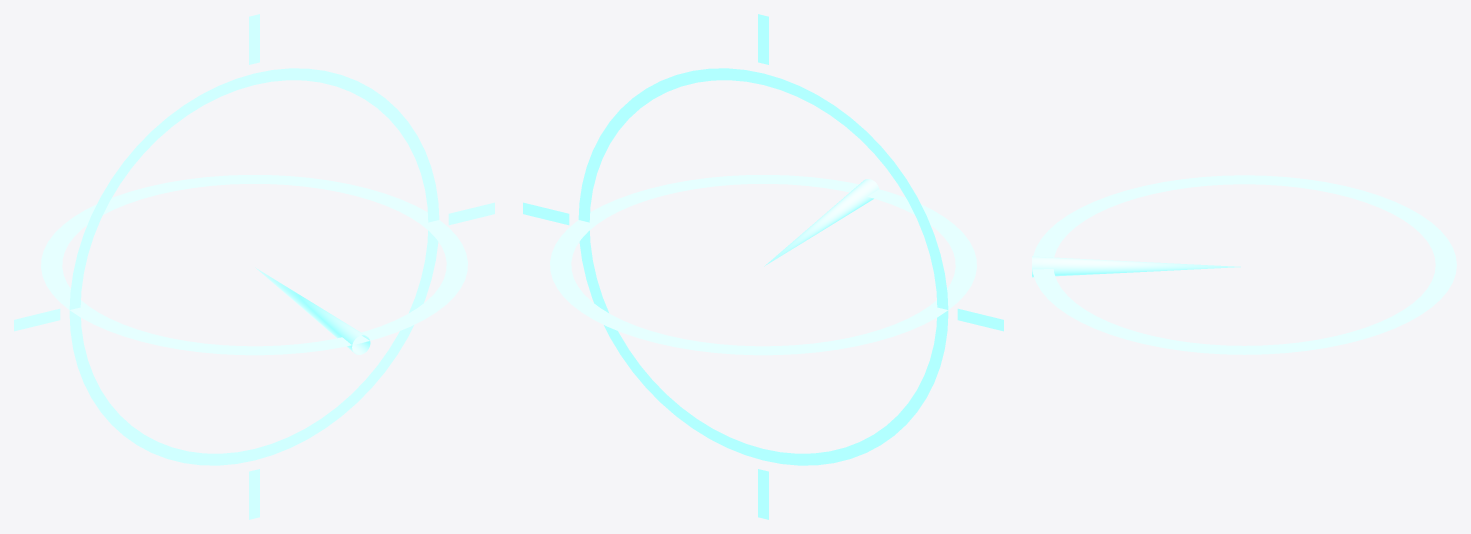
The model's file is vfx_meshes.glb.
3 views of the same model, side by side, from view 1: azimuth 30°, elevation 25°; view 2: azimuth 150°, elevation 25°; view 3: azimuth 270°, elevation 25° (orthographic).
Parts seen in each view (by area): view 1: Reticle, BeaconPulse, ScannerBeam; view 2: Reticle, BeaconPulse, ScannerBeam; view 3: BeaconPulse, ScannerBeam.
Part boxes in pixels (left/top/right/bottom): Reticle: left=14, top=14, right=494, bottom=519; BeaconPulse: left=41, top=175, right=467, bottom=355; ScannerBeam: left=255, top=267, right=370, bottom=354; Reticle: left=523, top=14, right=1003, bottom=519; BeaconPulse: left=550, top=175, right=976, bottom=355; ScannerBeam: left=764, top=179, right=878, bottom=266; BeaconPulse: left=1032, top=175, right=1456, bottom=354; ScannerBeam: left=1032, top=256, right=1240, bottom=277.
Bounding box in the file's own units: 2.6 × 2.6 × 2.
